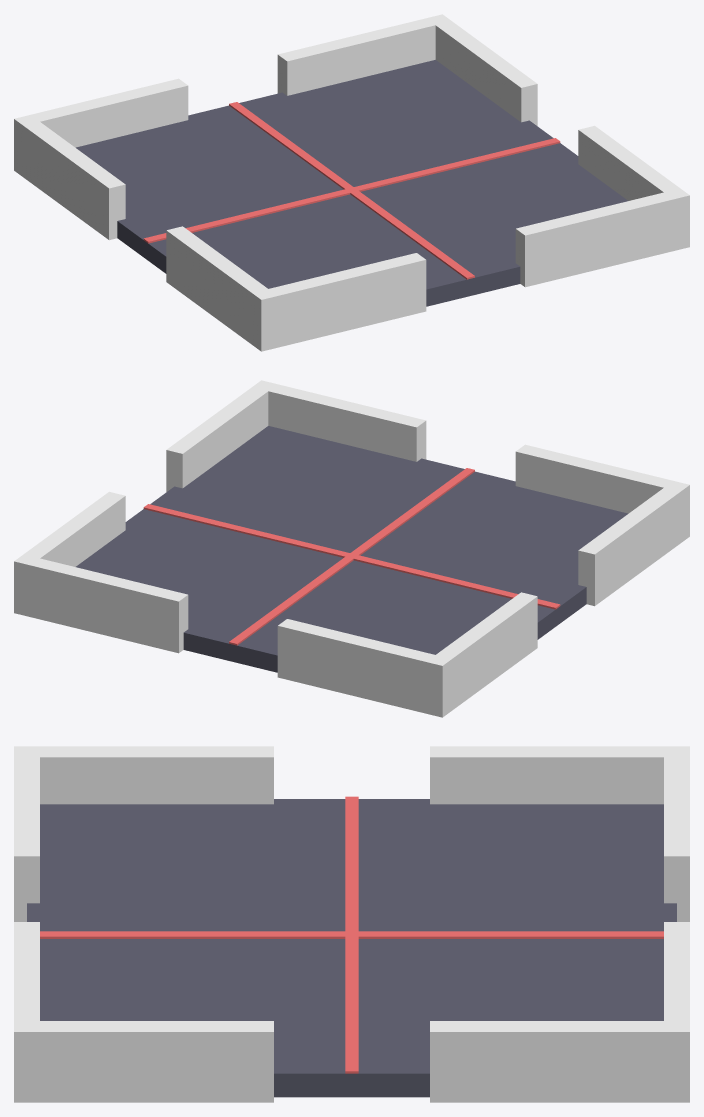
Rendered from Pattern_X.fbx.
3 views of the same model, one above another, from view 1: azimuth 30°, elevation 25°; view 2: azimuth 150°, elevation 25°; view 3: azimuth 270°, elevation 25° (orthographic). The views are drawn at different scales.
Parts seen in each view (by area): view 1: Pattern_X; view 2: Pattern_X; view 3: Pattern_X.
Part boxes in pixels (left/top/right/bottom): Pattern_X: left=14, top=14, right=689, bottom=351; Pattern_X: left=14, top=380, right=689, bottom=717; Pattern_X: left=14, top=746, right=689, bottom=1102.
Size of the model in its own units: 26 by 3 by 26.
